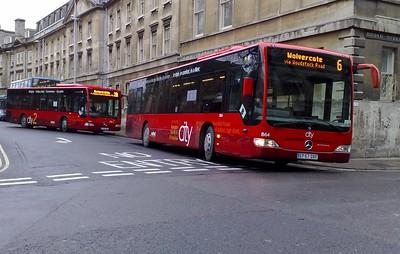bus: (123, 45, 370, 176), (2, 76, 119, 129)
